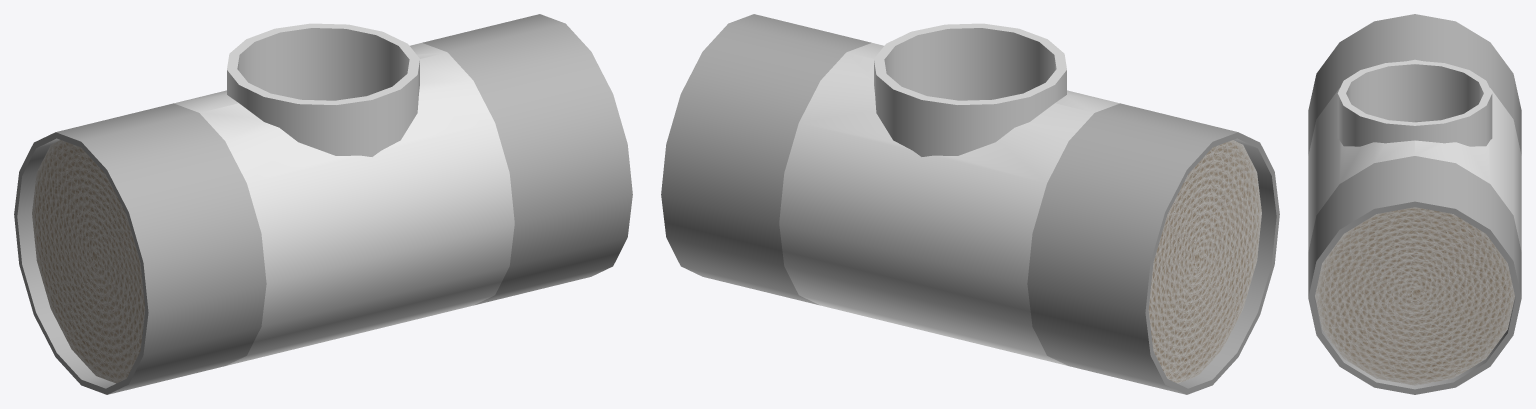
Rendered from Filter_wTop.fbx.
The picture shows the model from 3 angles, left to right: view 1: azimuth 30°, elevation 25°; view 2: azimuth 150°, elevation 25°; view 3: azimuth 270°, elevation 25°; orthographic projection. The views are drawn at different scales.
Visible parts, largest first — view 1: Filter; view 2: Filter; view 3: Filter.
Part boxes in pixels (<box>): Filter: <box>14,14,632,394</box>; Filter: <box>661,14,1279,394</box>; Filter: <box>1308,14,1521,394</box>.
Size of the model in its own units: 416 by 215 by 200.
